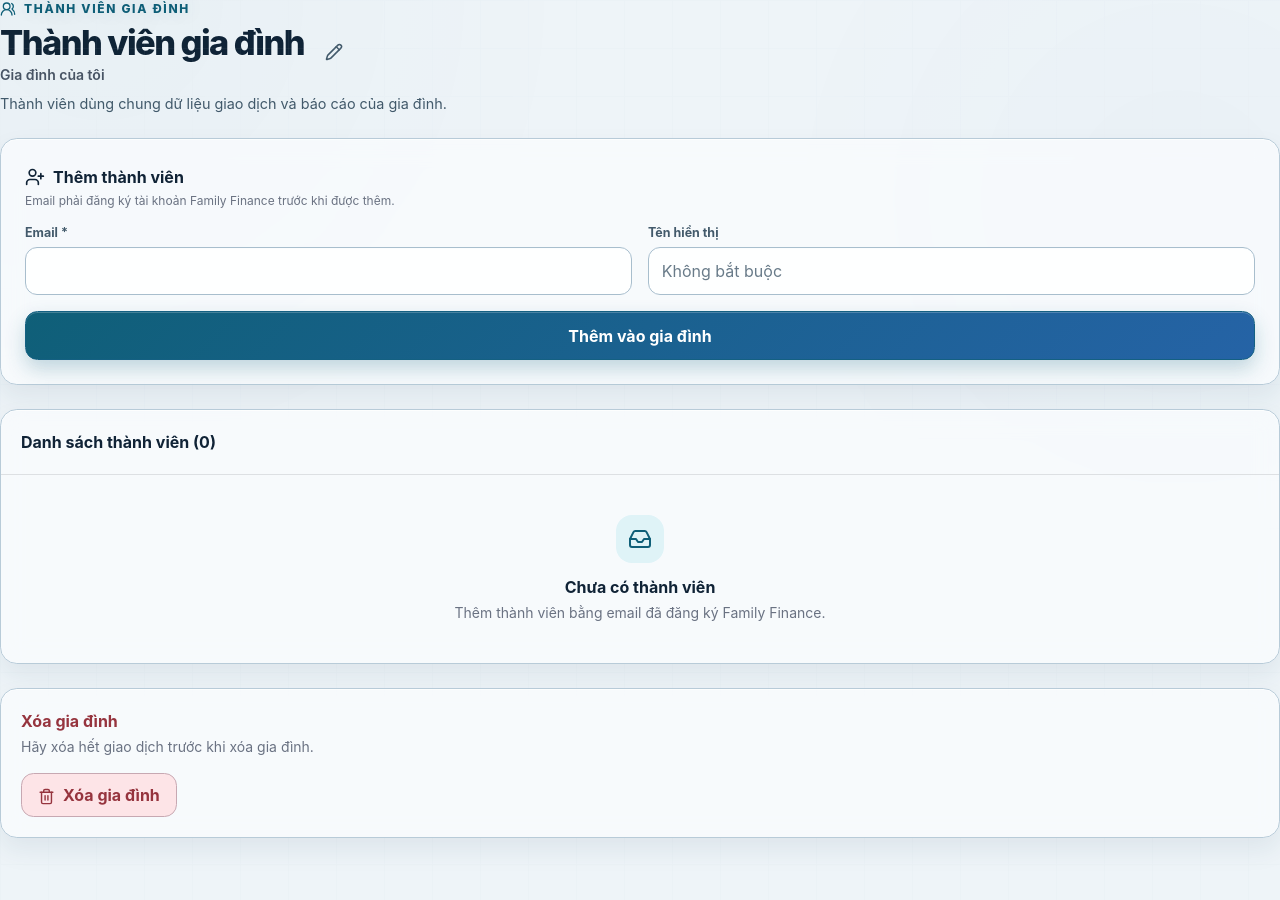
it: Members › cho nút phản hồi rõ ràng khi gia đình còn giao dịch hoạt động
Step 1. Click the button "Xóa gia đình" → (99, 795), box [21,773,177,817]
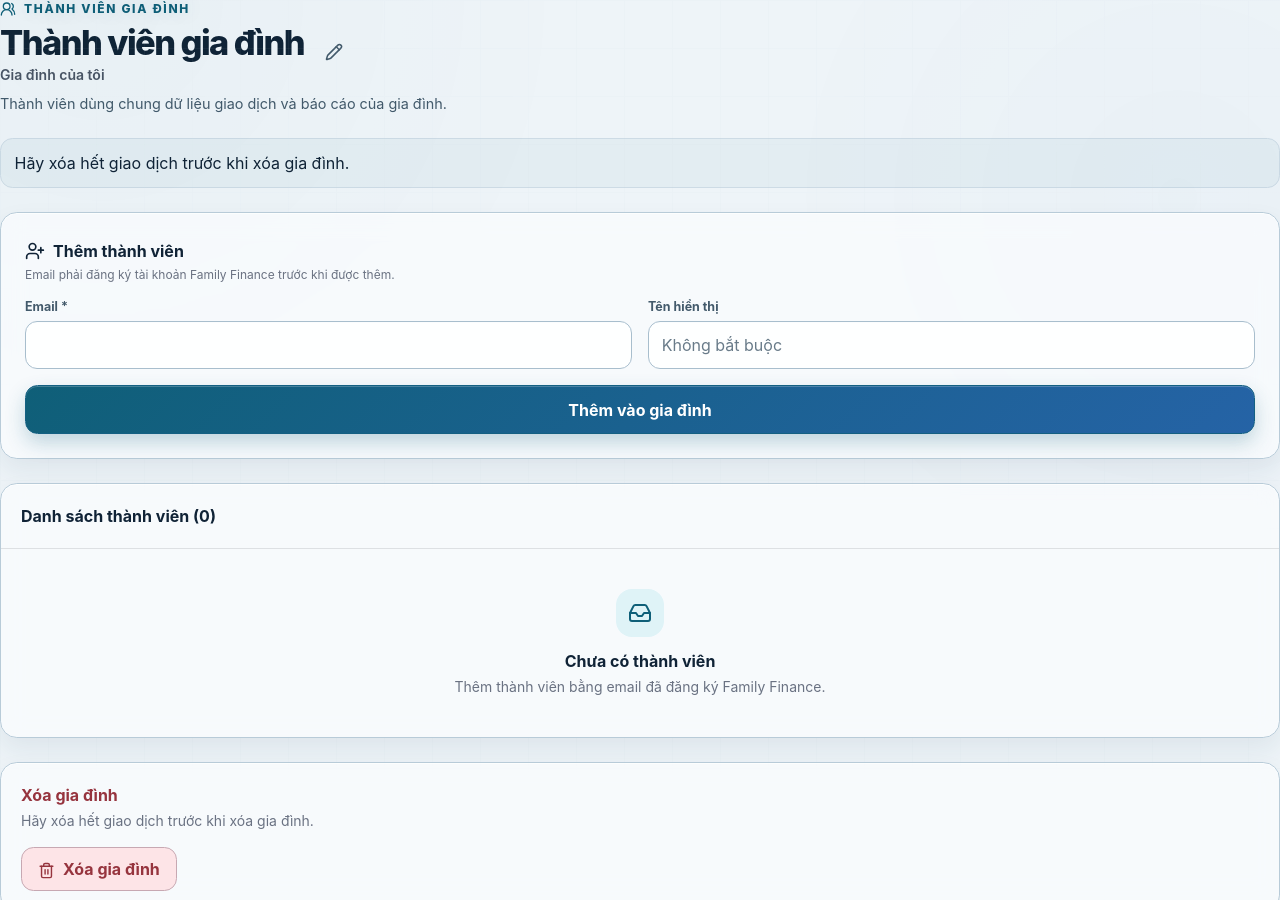
Now the message "Hãy xóa hết giao dịch trước khi xóa gia đình." is shown, box [0,138,1279,188]
